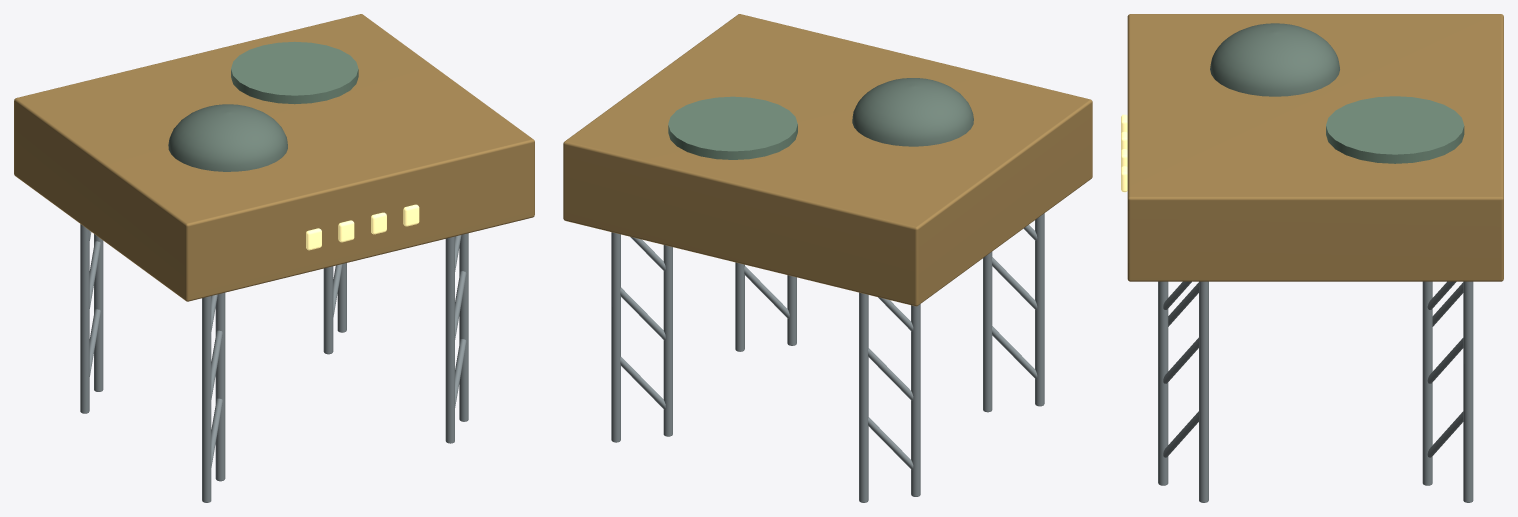
3 views of the same model, side by side, from view 1: azimuth 30°, elevation 25°; view 2: azimuth 150°, elevation 25°; view 3: azimuth 270°, elevation 25° (orthographic). The views are drawn at different scales.
Parts seen in each view (by area): view 1: Raised mine deck, Mine rear hatch, Mine deck dome, Mine trestle leg, Mine trestle leg.004, Mine trestle leg.002, Mine trestle leg.001, Mine trestle leg.005, Mine trestle leg.003, Mine trestle leg.006, Mine trestle leg.007; view 2: Raised mine deck, Mine rear hatch, Mine deck dome, Mine trestle leg.007, Mine trestle leg.003, Mine trestle leg.002, Mine trestle leg, Mine trestle leg.006, Mine trestle leg.001, Mine trestle leg.005, Mine trestle leg.004; view 3: Raised mine deck, Mine rear hatch, Mine deck dome, Mine trestle leg.007, Mine trestle leg.005, Mine trestle leg.006, Mine trestle leg.004.
Boxes of the visible parts, <box> form: Raised mine deck: <box>14,14,534,301</box>; Mine rear hatch: <box>231,41,358,104</box>; Mine deck dome: <box>168,104,287,171</box>; Mine trestle leg: <box>202,296,211,502</box>; Mine trestle leg.004: <box>445,236,454,443</box>; Mine trestle leg.002: <box>80,224,89,413</box>; Mine trestle leg.001: <box>215,292,225,481</box>; Mine trestle leg.005: <box>459,233,468,421</box>; Mine trestle leg.003: <box>94,234,103,391</box>; Mine trestle leg.006: <box>323,266,333,354</box>; Mine trestle leg.007: <box>337,263,346,332</box>; Raised mine deck: <box>563,14,1092,306</box>; Mine rear hatch: <box>668,96,797,159</box>; Mine deck dome: <box>852,78,973,146</box>; Mine trestle leg.007: <box>611,232,620,442</box>; Mine trestle leg.003: <box>859,292,868,502</box>; Mine trestle leg.002: <box>911,304,920,496</box>; Mine trestle leg: <box>1035,213,1044,406</box>; Mine trestle leg.006: <box>663,245,672,436</box>; Mine trestle leg.001: <box>983,252,992,412</box>; Mine trestle leg.005: <box>735,262,744,351</box>; Mine trestle leg.004: <box>787,275,796,345</box>; Raised mine deck: <box>1127,14,1503,281</box>; Mine rear hatch: <box>1326,96,1464,163</box>; Mine deck dome: <box>1210,23,1339,96</box>; Mine trestle leg.007: <box>1463,281,1473,502</box>; Mine trestle leg.005: <box>1199,281,1208,502</box>; Mine trestle leg.006: <box>1422,281,1432,485</box>; Mine trestle leg.004: <box>1158,281,1168,485</box>.
Bounding box in the file's own units: 2.15 × 1.96 × 1.88.
